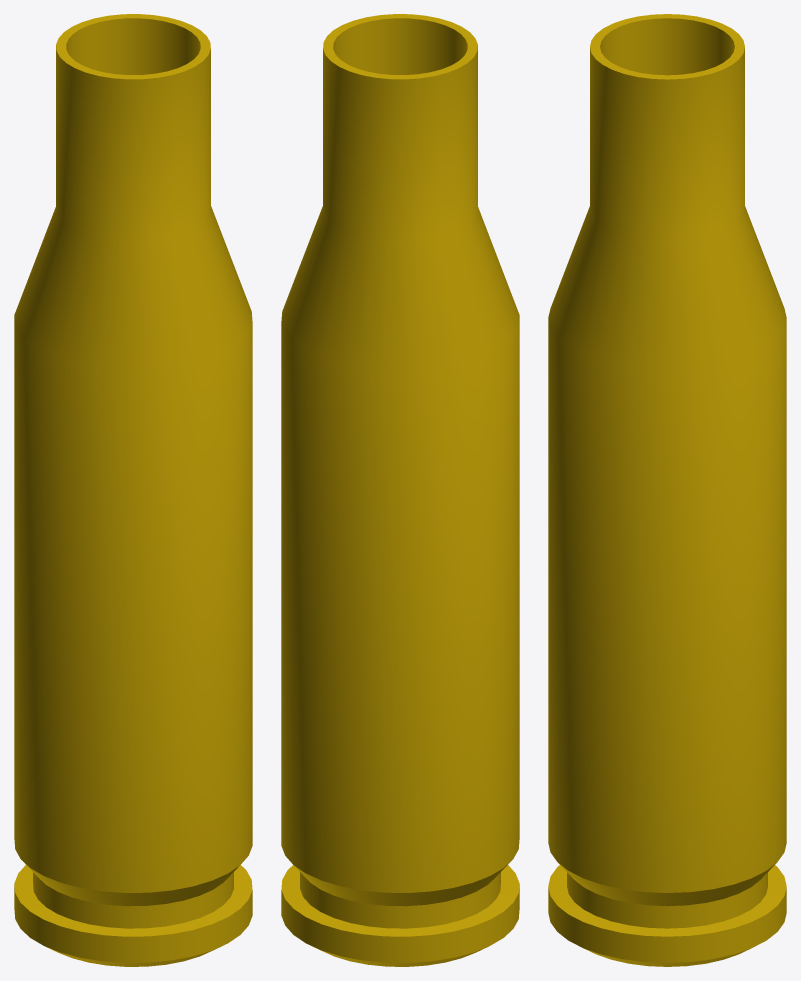
File: 5.56x45_shell.fbx
The picture shows the model from 3 angles, left to right: view 1: azimuth 30°, elevation 25°; view 2: azimuth 150°, elevation 25°; view 3: azimuth 270°, elevation 25°; orthographic projection.
Visible parts, largest first — view 1: Cylinder; view 2: Cylinder; view 3: Cylinder.
Part boxes in pixels (x1,y1,x2,y2): Cylinder: (14,14,252,966); Cylinder: (281,14,519,966); Cylinder: (548,14,786,966).
Bounding box in the file's own units: 1.12 × 4.55 × 1.12.
